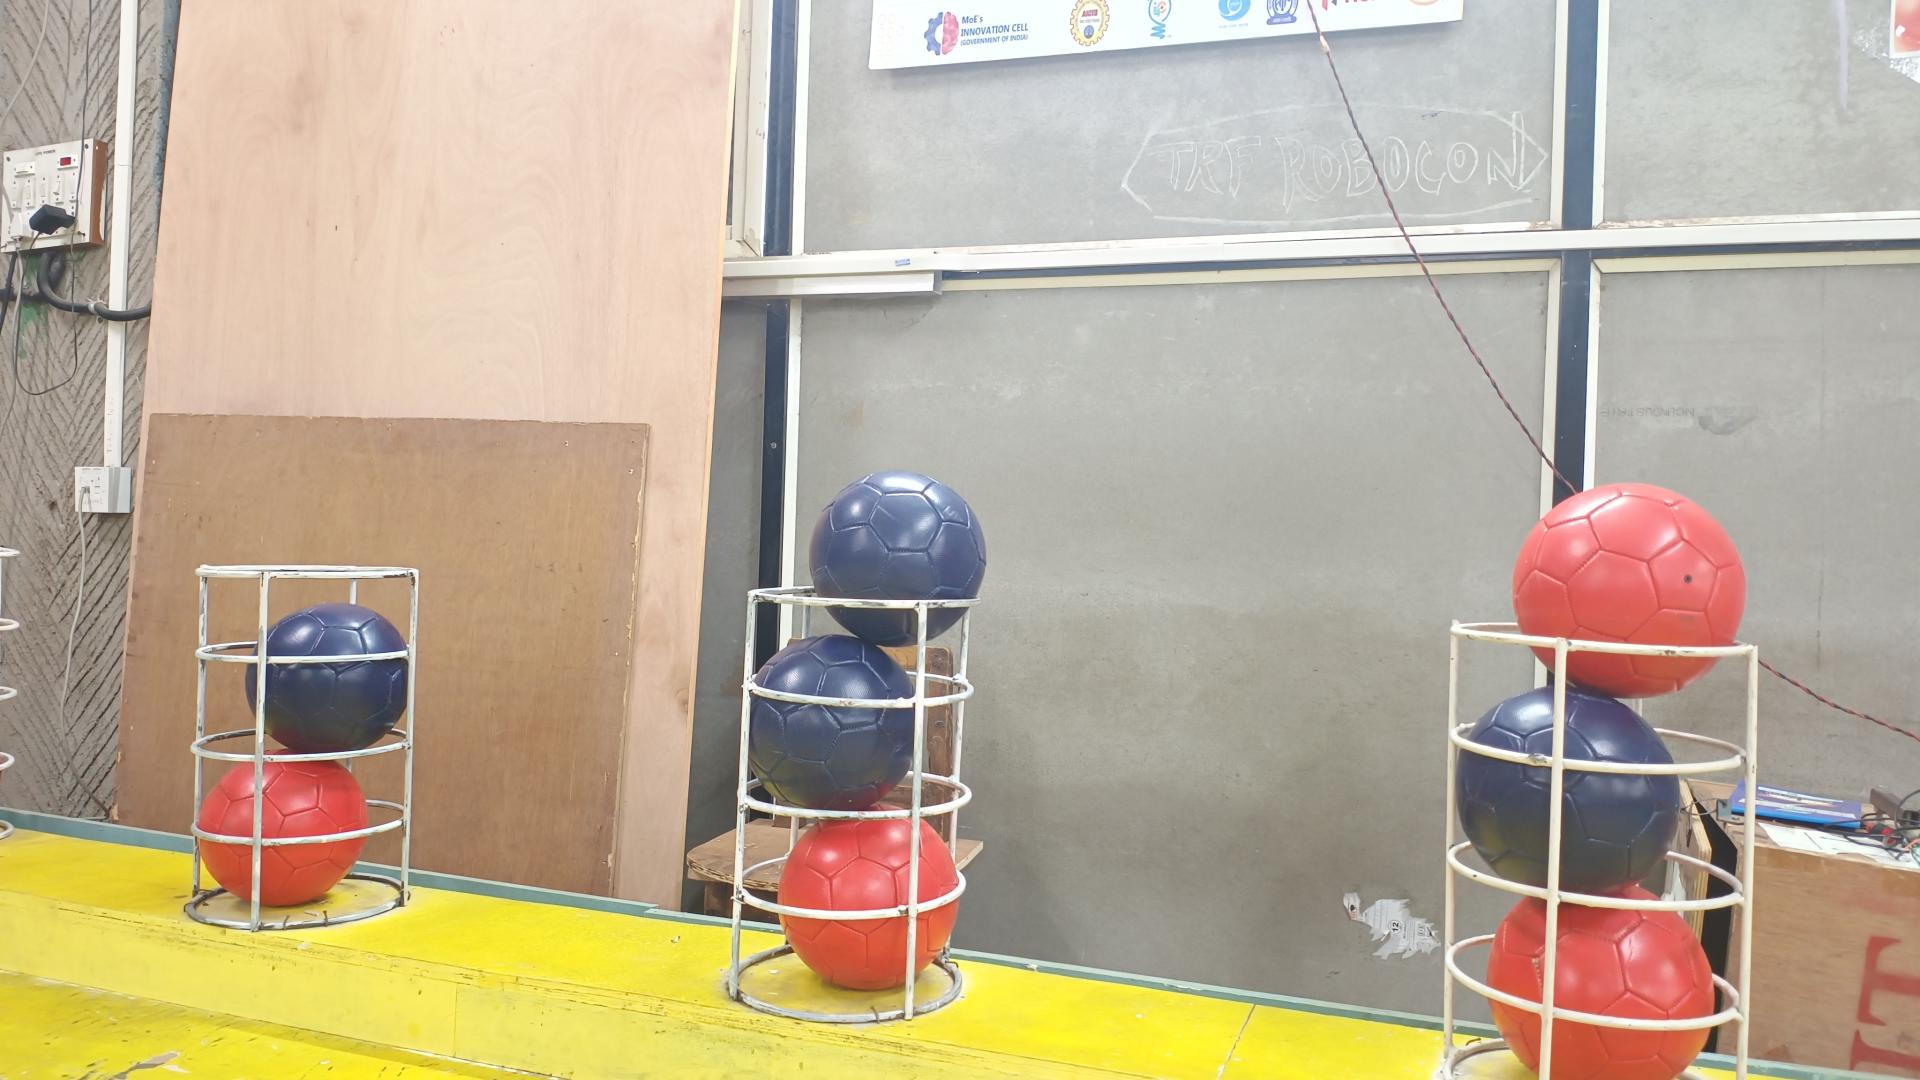dhoka: (1455, 686, 1684, 897), (810, 472, 986, 649), (746, 634, 915, 810), (244, 604, 409, 754)
laale: (1511, 484, 1747, 702), (1485, 897, 1717, 1080), (781, 818, 964, 990), (195, 761, 368, 907)
